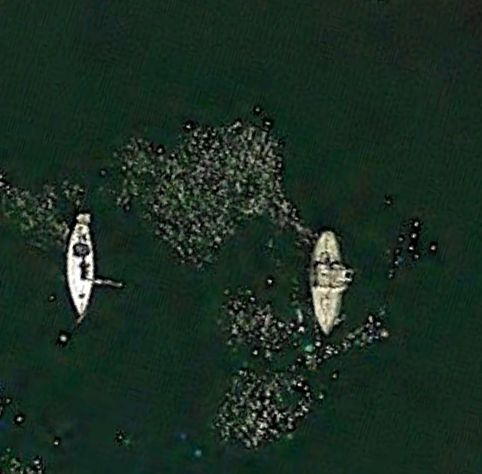boat: (306, 228, 353, 339), (64, 225, 99, 322)
